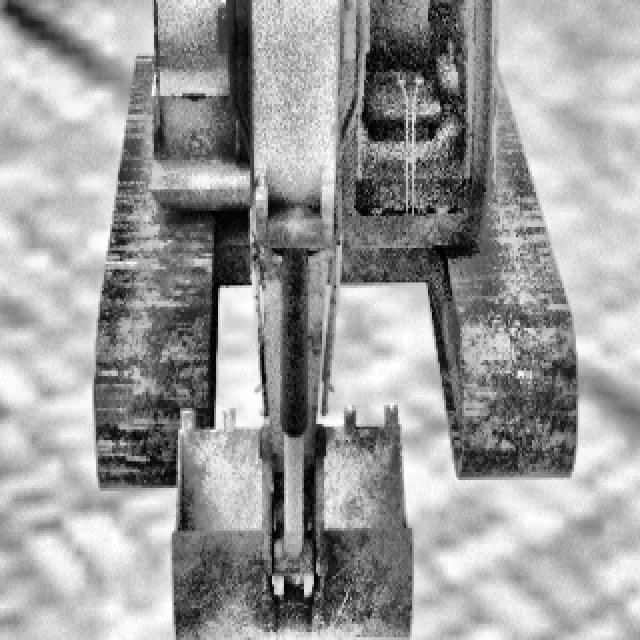excavator: (90, 0, 576, 640)
